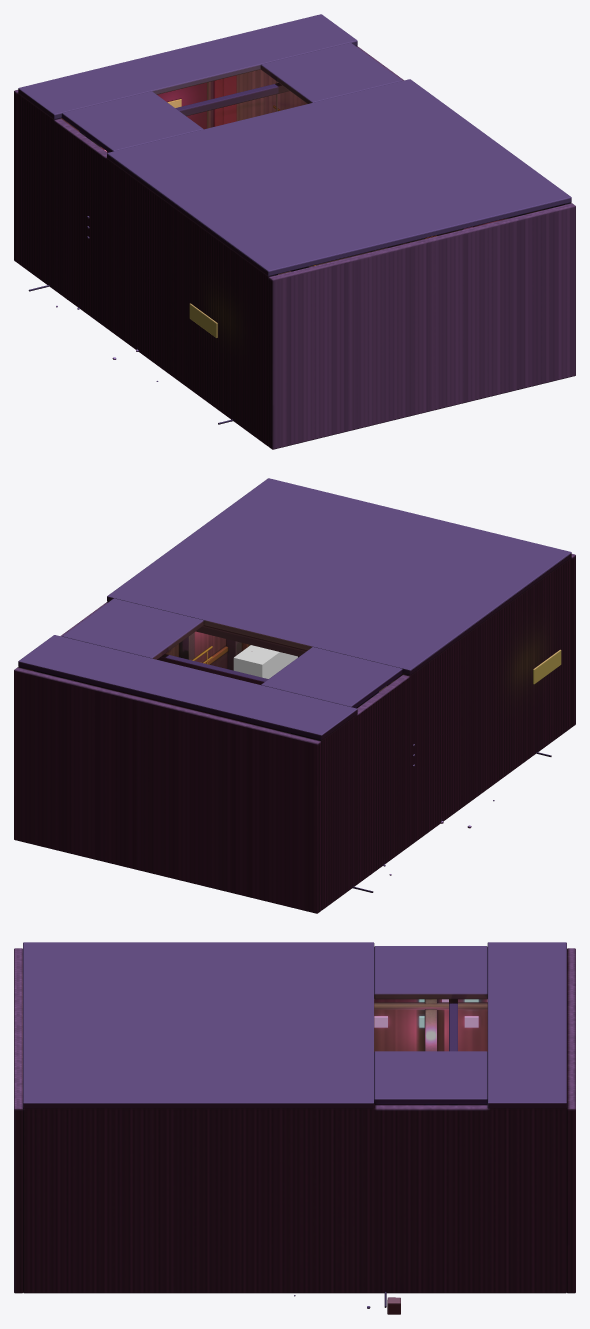
The picture shows the model from 3 angles, top to bottom: view 1: azimuth 30°, elevation 25°; view 2: azimuth 150°, elevation 25°; view 3: azimuth 270°, elevation 25°; orthographic projection. The views are drawn at different scales.
Parts seen in each view (by area): view 1: wall_front, roof_b, wall_left, roof_a, roof_c, roof_d, wall_back, drapes, steel, signs; view 2: wall_back, roof_b, wall_left, roof_a, roof_d, roof_c, steel, col_forklift, wall_right, wall_front; view 3: wall_right, roof_b, roof_a, roof_c, roof_d, wall_left, wall_back, wall_front, steel, pipes, win.
Part boxes in pixels (x1,y1,x2,y2): wall_front: [268, 203, 575, 449]; roof_b: [107, 79, 571, 276]; wall_left: [18, 93, 274, 446]; roof_a: [18, 14, 357, 119]; roof_c: [62, 91, 203, 152]; roof_d: [261, 42, 402, 103]; wall_back: [14, 69, 306, 262]; drapes: [107, 75, 236, 152]; steel: [79, 83, 556, 275]; signs: [104, 99, 217, 337]; wall_back: [14, 667, 321, 913]; roof_b: [107, 478, 571, 675]; wall_left: [315, 557, 571, 910]; roof_a: [18, 635, 357, 740]; roof_d: [62, 598, 203, 659]; roof_c: [261, 647, 402, 708]; steel: [33, 625, 403, 739]; col_forklift: [233, 645, 297, 678]; wall_right: [18, 601, 226, 670]; wall_front: [571, 554, 575, 726]; wall_right: [23, 1105, 566, 1293]; roof_b: [23, 942, 374, 1108]; roof_a: [487, 942, 566, 1108]; roof_c: [374, 946, 487, 999]; roof_d: [374, 1051, 487, 1104]; wall_left: [374, 999, 487, 1051]; wall_back: [567, 948, 575, 1293]; wall_front: [14, 948, 22, 1293]; steel: [374, 999, 487, 1105]; pipes: [374, 999, 487, 1009]; win: [374, 999, 487, 1027].
Size of the model in its own units: 20.54 by 9.4 by 24.8.
Materials: 29 (29 with a texture image).
